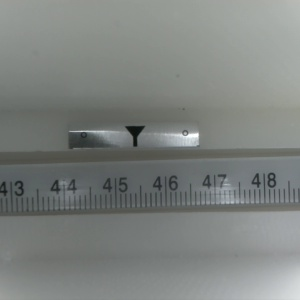3: (13, 180, 24, 196)
4: (151, 176, 162, 191), (50, 180, 61, 194), (66, 179, 77, 193), (101, 178, 112, 192), (251, 173, 261, 188), (201, 175, 211, 188), (0, 181, 8, 196)
5: (118, 177, 127, 192)
6: (167, 175, 177, 190)
7: (217, 175, 226, 188)
8: (266, 172, 276, 188)
finger: (123, 126, 145, 149)
